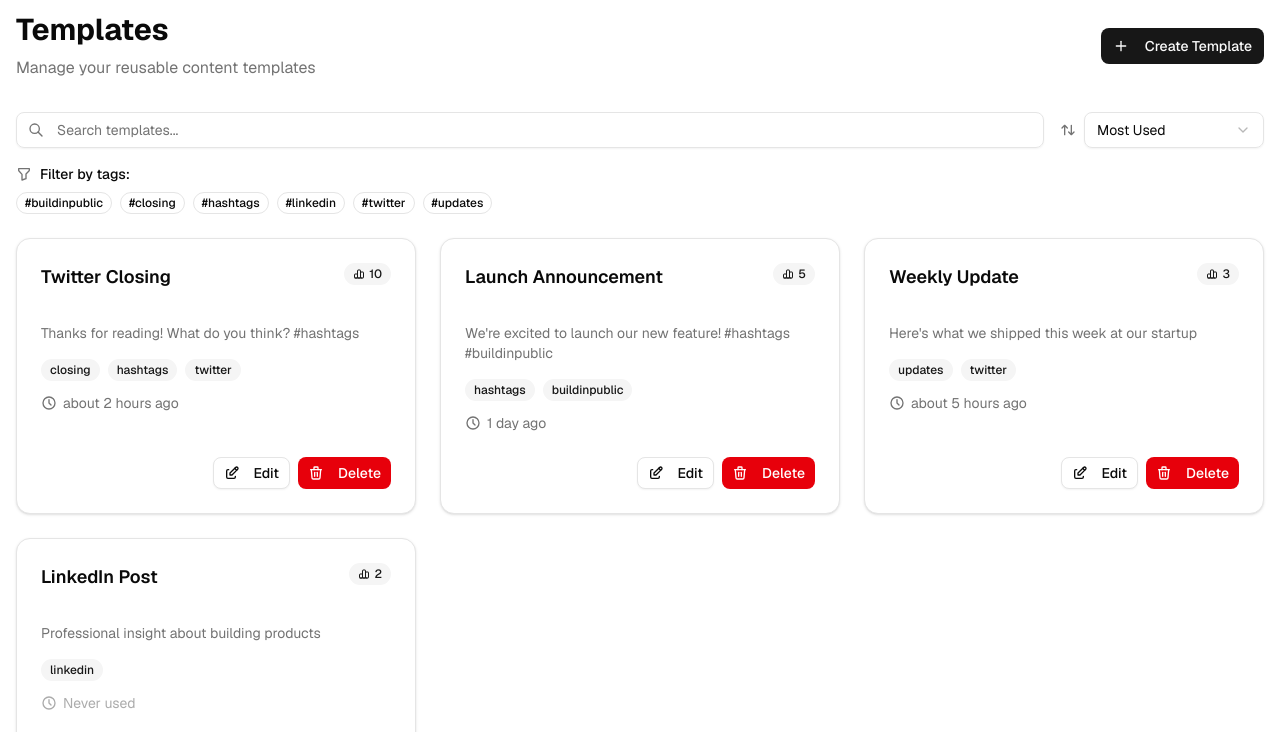
TemplateLibrary - Search and Filter › Search Filtering › should clear search when clear button clicked
Type "test" into the field with placeholder "Search templates...". click: (530, 130)
box: [16,112,1044,148]
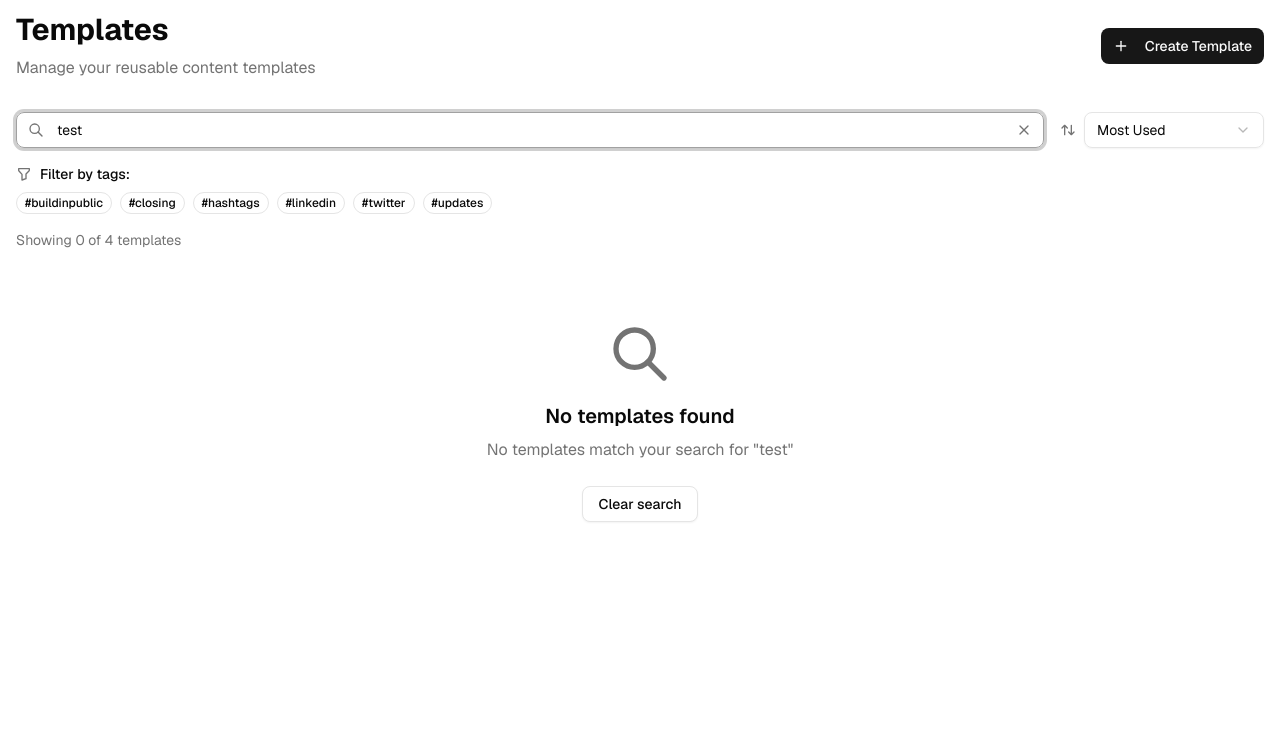
# Click the X button
Click the button named "Clear search". click: (1024, 130)
box: [1016,122,1032,138]
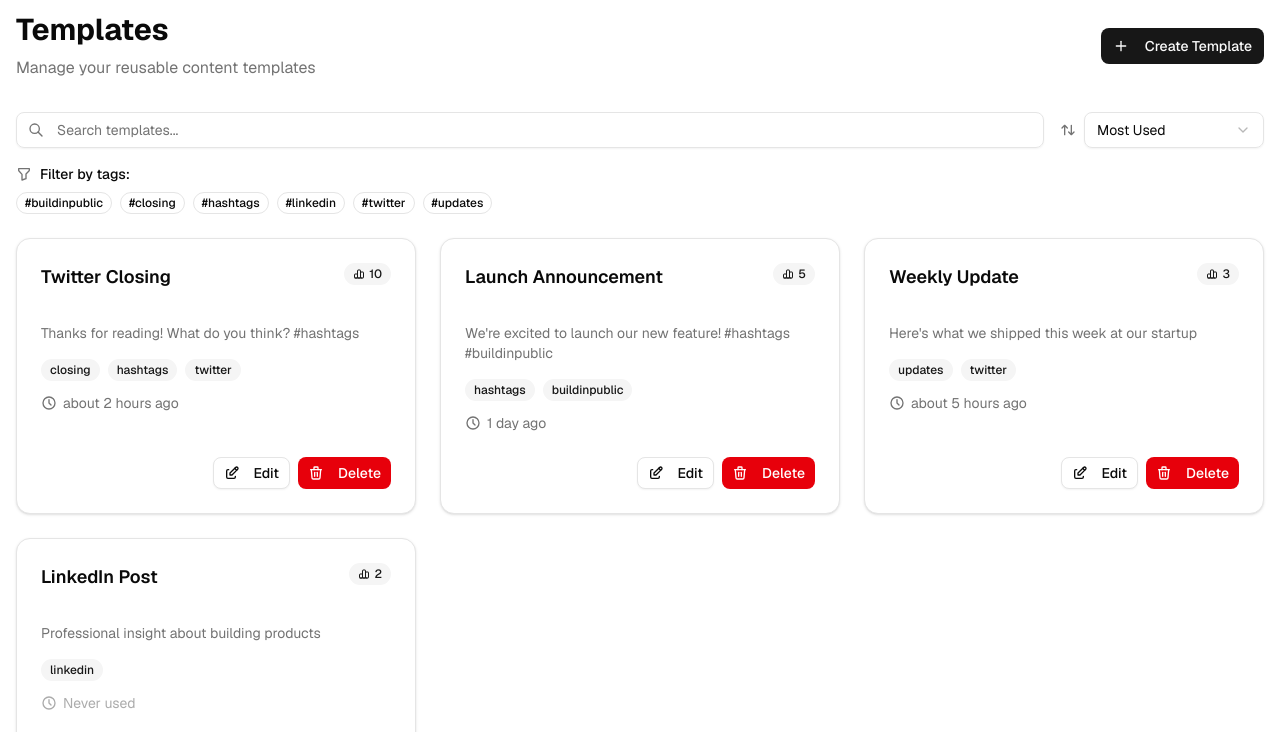
Now the field with placeholder "Search templates..." is empty, box [16,112,1044,148]
Now the text "Launch Announcement" is shown, box [465,265,663,288]
Now the text "Weekly Update" is shown, box [889,265,1019,288]
